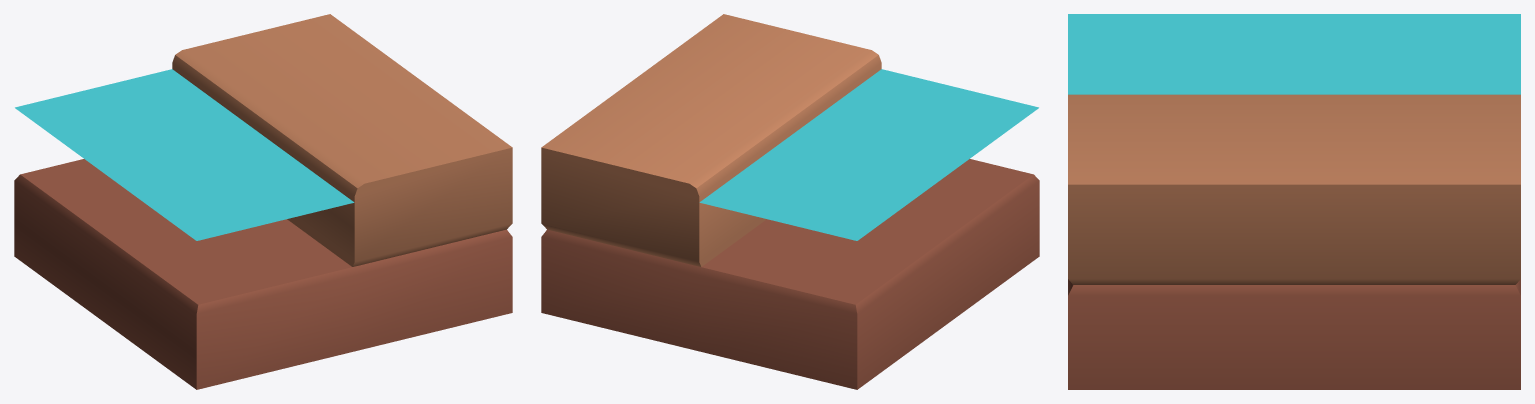
The model's file is square_rock_waterStraight_noSides.glb.
3 renders of one model, left to right at view 1: azimuth 30°, elevation 25°; view 2: azimuth 150°, elevation 25°; view 3: azimuth 270°, elevation 25°, orthographic. The views are drawn at different scales.
Parts seen in each view (by area): view 1: square_rock_waterStraight_noSides; view 2: square_rock_waterStraight_noSides; view 3: square_rock_waterStraight_noSides.
Boxes of the visible parts, <box> form: square_rock_waterStraight_noSides: <box>14,14,512,389</box>; square_rock_waterStraight_noSides: <box>541,14,1039,389</box>; square_rock_waterStraight_noSides: <box>1068,14,1520,389</box>.
Size of the model in its own units: 2 by 1 by 2.
